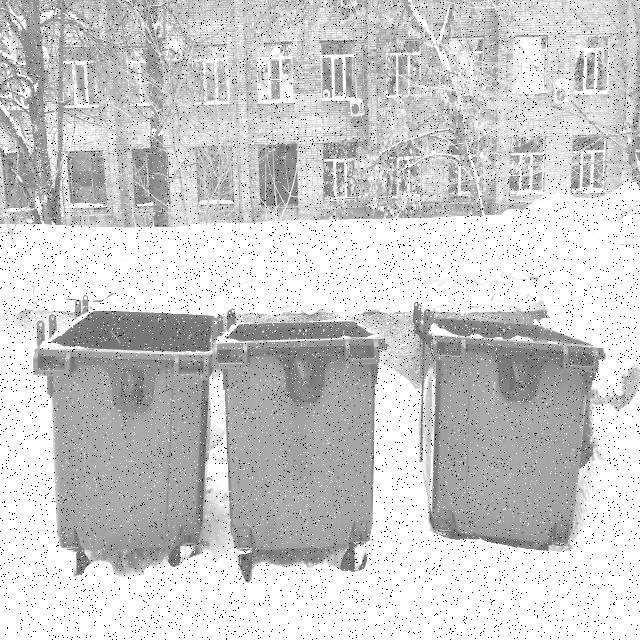Trashcan: (20, 253, 222, 589), (398, 286, 600, 586), (199, 282, 397, 578)
